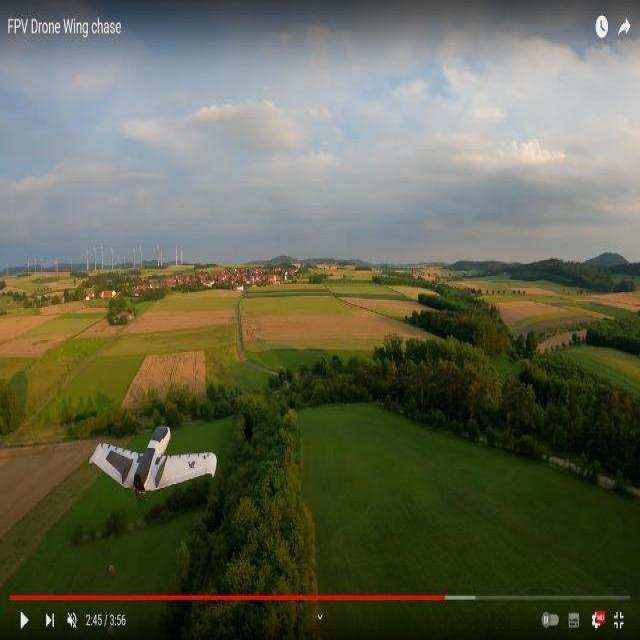UAV: (102, 386, 220, 502)
